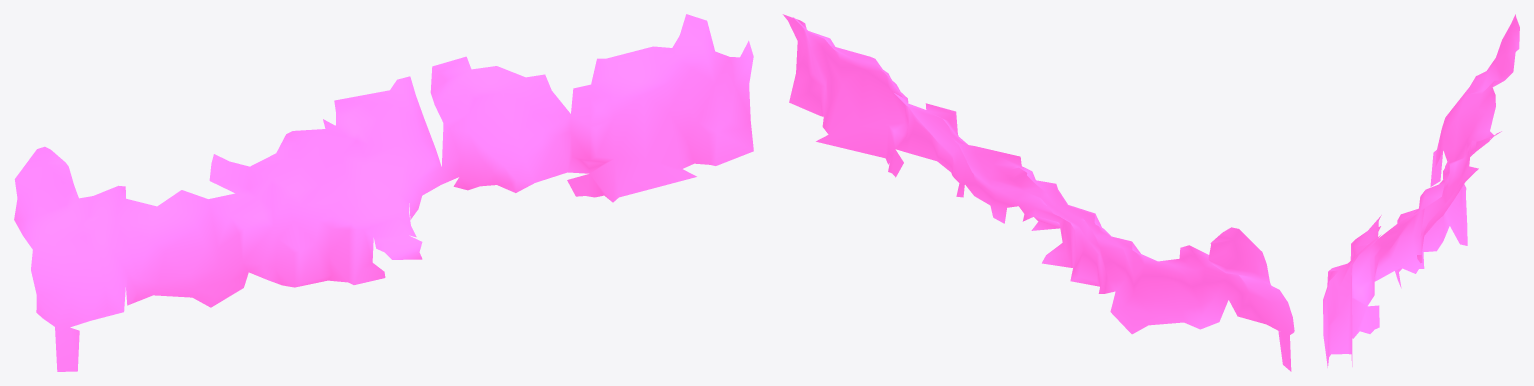
File: boss_brutalizer_base.glb
3 views of the same model, side by side, from view 1: azimuth 30°, elevation 25°; view 2: azimuth 150°, elevation 25°; view 3: azimuth 270°, elevation 25° (orthographic). The views are drawn at different scales.
Visible parts, largest first — view 1: Boss brutalizer base; view 2: Boss brutalizer base; view 3: Boss brutalizer base.
Part boxes in pixels (bbox=[...]): Boss brutalizer base: bbox=[14, 14, 753, 371]; Boss brutalizer base: bbox=[782, 14, 1294, 371]; Boss brutalizer base: bbox=[1323, 14, 1519, 367].
Size of the model in its own units: 10.13 by 3.5 by 2.85.
